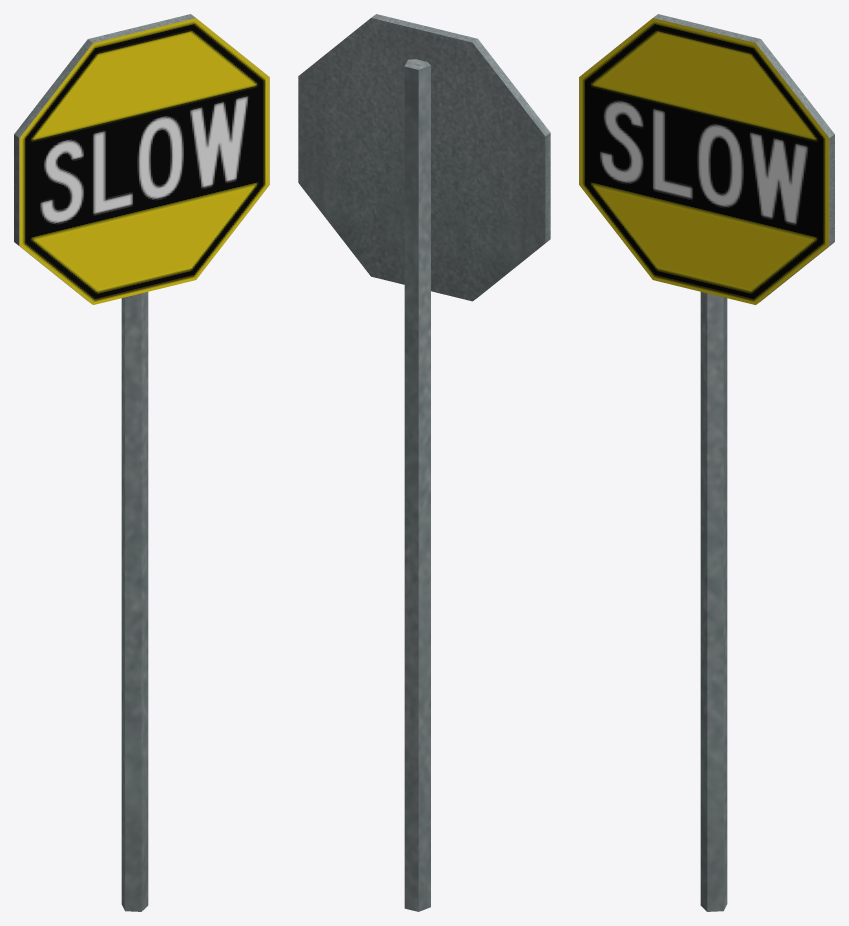
File: SlowSign.FBX
The picture shows the model from 3 angles, left to right: view 1: azimuth 30°, elevation 25°; view 2: azimuth 150°, elevation 25°; view 3: azimuth 330°, elevation 25°; orthographic projection.
Visible parts, largest first — view 1: SlowSign; view 2: SlowSign; view 3: SlowSign.
Boxes of the visible parts, <box> form: SlowSign: <box>14,14,269,911</box>; SlowSign: <box>298,14,550,911</box>; SlowSign: <box>579,14,834,911</box>.
Size of the model in its own units: 0.7999 by 2.7 by 0.0878.
